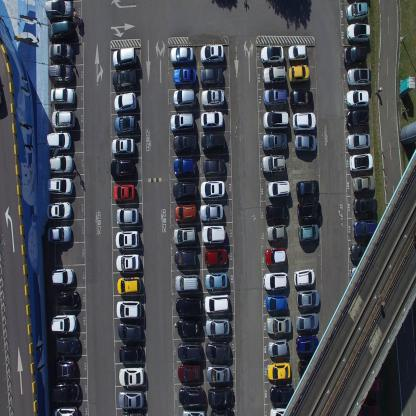car: (48, 380, 80, 402), (112, 44, 137, 69), (47, 62, 74, 85), (44, 0, 73, 21), (170, 110, 196, 133), (207, 386, 234, 408), (50, 312, 77, 334), (50, 357, 77, 379), (262, 108, 289, 130), (261, 130, 288, 152), (353, 218, 378, 241), (177, 318, 203, 340), (109, 159, 135, 181), (46, 200, 72, 222), (296, 200, 322, 222), (262, 269, 288, 291), (118, 388, 145, 409), (113, 69, 137, 92), (349, 151, 373, 174), (204, 292, 229, 314), (113, 114, 138, 136), (117, 320, 142, 342), (201, 224, 227, 245), (50, 86, 76, 107), (266, 314, 292, 335), (111, 135, 135, 157), (290, 88, 314, 110), (292, 110, 316, 132), (295, 334, 319, 356), (346, 22, 370, 44), (172, 225, 197, 246), (173, 248, 198, 269), (116, 274, 141, 295), (353, 196, 378, 217), (172, 132, 198, 152), (206, 340, 232, 360), (118, 366, 144, 386), (48, 154, 74, 174), (262, 88, 288, 108), (114, 91, 136, 114), (262, 64, 285, 86), (266, 178, 289, 200), (346, 107, 369, 129), (344, 44, 367, 66), (204, 246, 228, 267), (178, 341, 202, 362), (175, 273, 199, 294), (112, 182, 136, 203), (47, 223, 71, 244), (260, 44, 284, 65), (270, 383, 294, 404), (200, 132, 225, 152), (200, 179, 225, 199), (206, 363, 231, 383), (116, 299, 141, 319), (50, 266, 75, 286), (261, 154, 286, 174), (295, 288, 320, 308), (350, 242, 375, 262), (172, 180, 198, 199), (178, 385, 204, 404), (118, 344, 144, 363), (48, 43, 74, 62), (46, 131, 72, 150), (47, 177, 73, 196), (351, 265, 377, 284), (346, 1, 368, 23), (200, 109, 223, 130), (173, 202, 196, 223), (352, 173, 375, 194), (200, 88, 224, 108), (173, 157, 197, 177), (204, 270, 228, 290), (178, 362, 202, 382), (115, 229, 139, 249), (116, 253, 140, 273), (56, 336, 80, 356), (296, 178, 320, 198), (267, 360, 291, 380), (295, 311, 319, 331), (172, 88, 197, 107), (205, 318, 231, 336), (48, 22, 74, 40), (264, 246, 286, 267), (265, 293, 287, 314), (116, 206, 139, 226), (56, 288, 79, 308), (293, 268, 316, 288), (200, 43, 224, 62), (200, 66, 224, 85), (51, 110, 75, 129), (293, 134, 317, 153), (298, 359, 322, 378), (347, 67, 371, 86), (198, 203, 223, 221), (267, 337, 289, 357), (202, 158, 226, 176), (265, 203, 289, 221), (345, 88, 369, 106), (169, 46, 194, 63), (173, 66, 196, 84), (266, 223, 286, 243), (288, 64, 310, 82), (347, 132, 370, 149), (298, 224, 319, 242), (361, 376, 384, 392), (356, 400, 378, 416), (288, 44, 307, 62), (51, 404, 78, 415), (270, 405, 295, 415), (181, 408, 206, 416), (210, 408, 234, 416), (121, 410, 144, 415)
